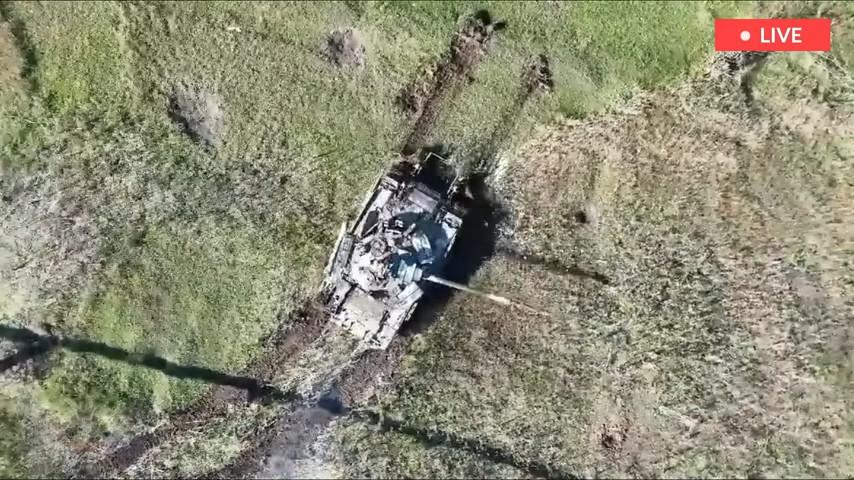tank: (309, 175, 511, 352)
